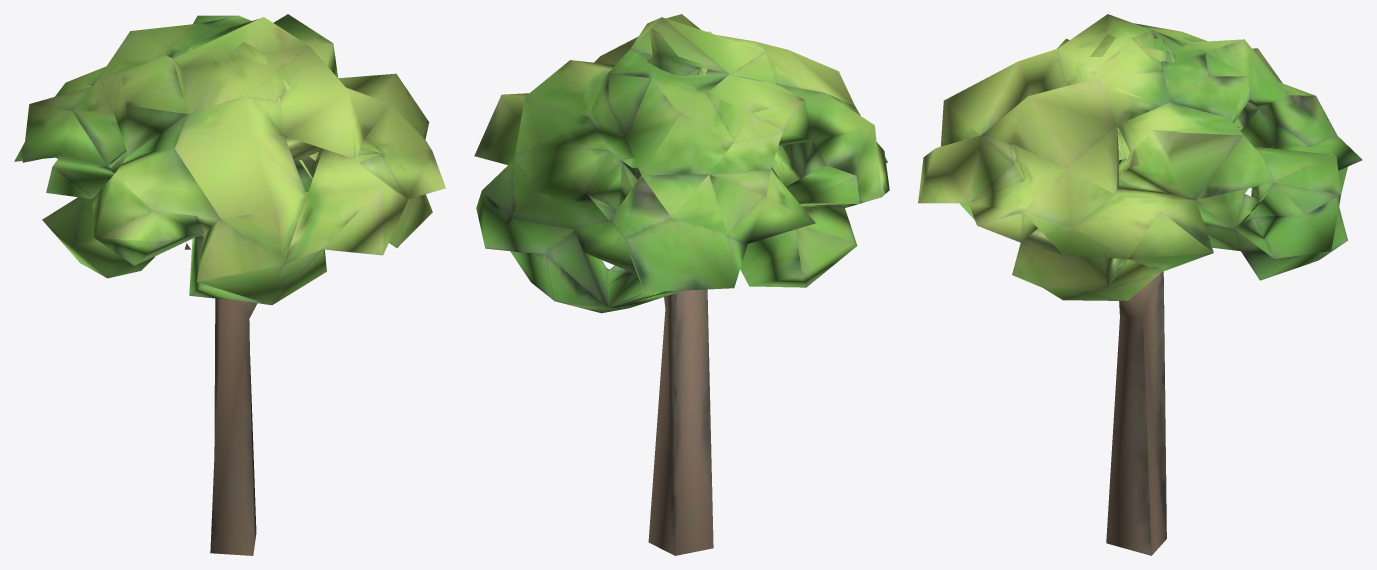
Rendered from tree_round_b_far.glb.
3 views of the same model, side by side, from view 1: azimuth 30°, elevation 25°; view 2: azimuth 150°, elevation 25°; view 3: azimuth 270°, elevation 25° (orthographic).
Visible parts, largest first — view 1: body; view 2: body; view 3: body.
Part boxes in pixels (box(x1,y1,x2,y2)): body: box(14, 14, 445, 555); body: box(474, 14, 889, 555); body: box(918, 14, 1362, 555).
Bounding box in the file's own units: 3.3 × 4.43 × 3.46.
Materials: 2 (2 with a texture image).
